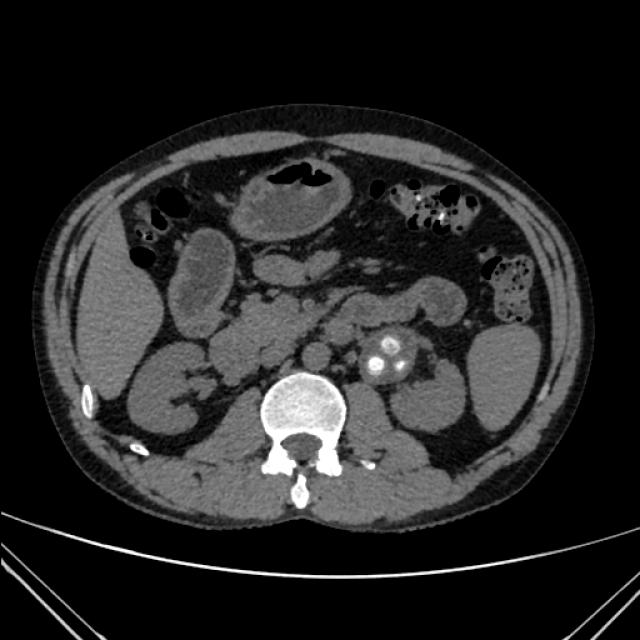kidneystone: (381, 335, 401, 356), (368, 356, 385, 376), (395, 361, 404, 371)
